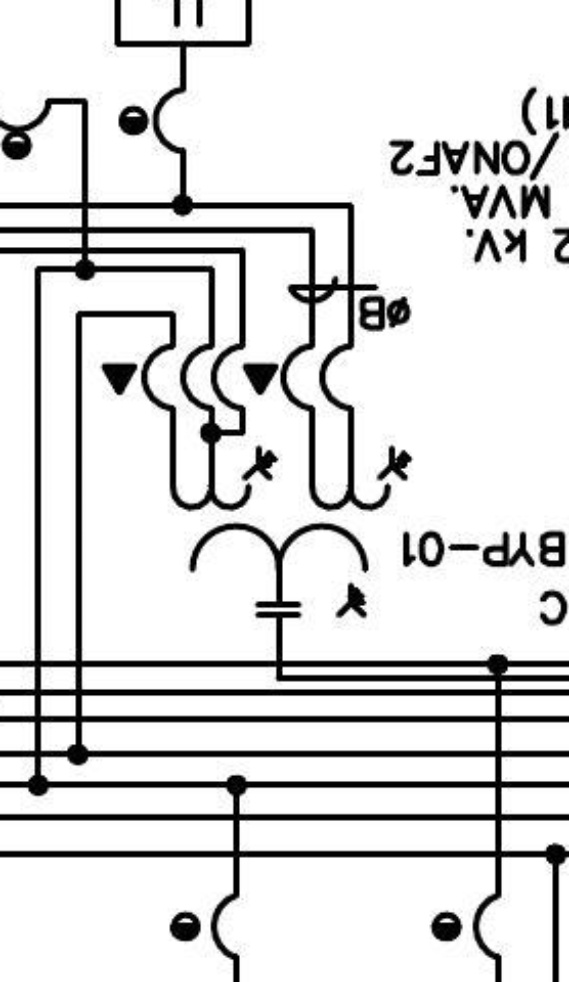115_cvt_3p: (169, 444, 414, 619)
